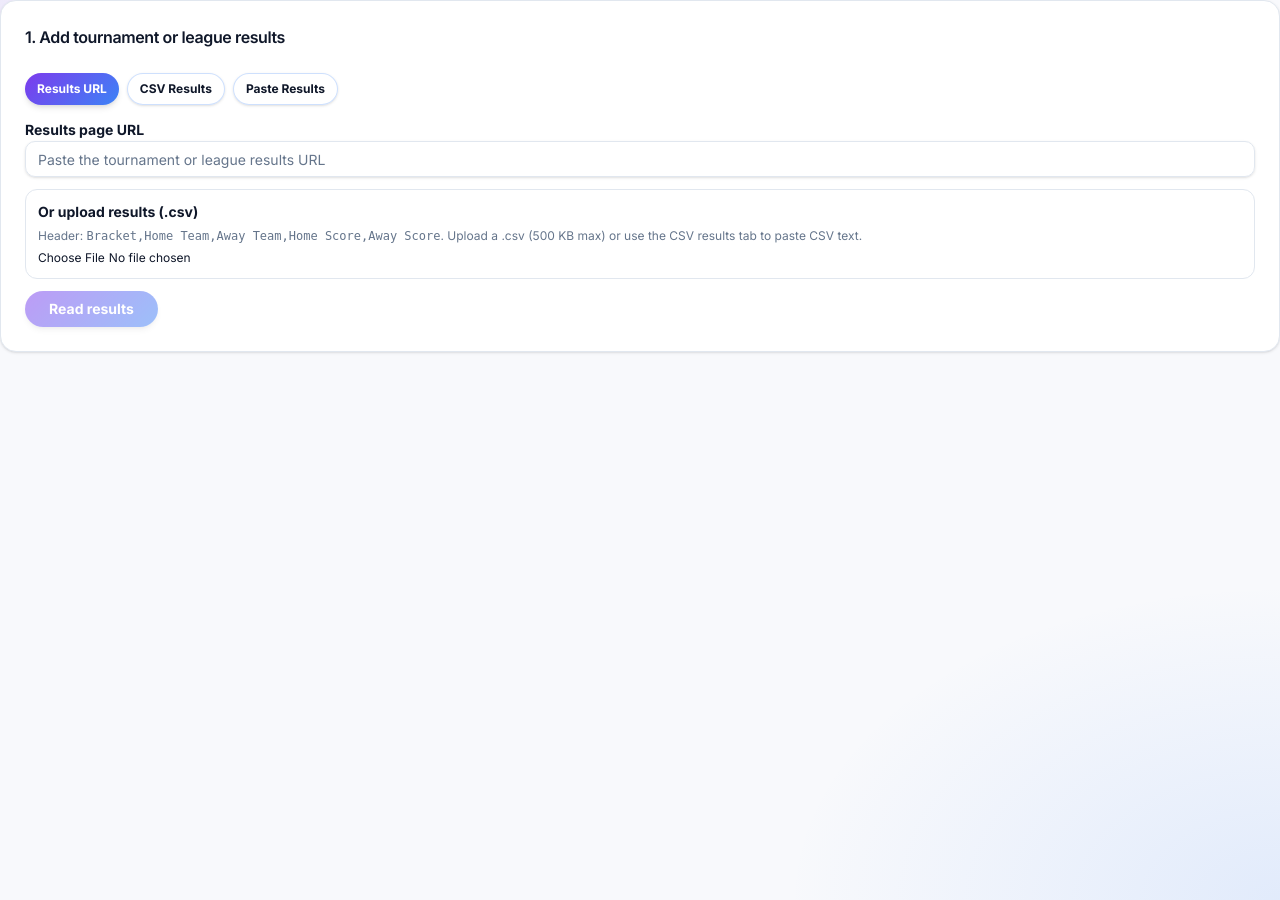
Scenario: visible post-competition results entry › uses the native showPicker API during the CSV button click when available
Click the tab with test id "tab-import-csv".
click(176, 89)  # box [127,73,225,105]
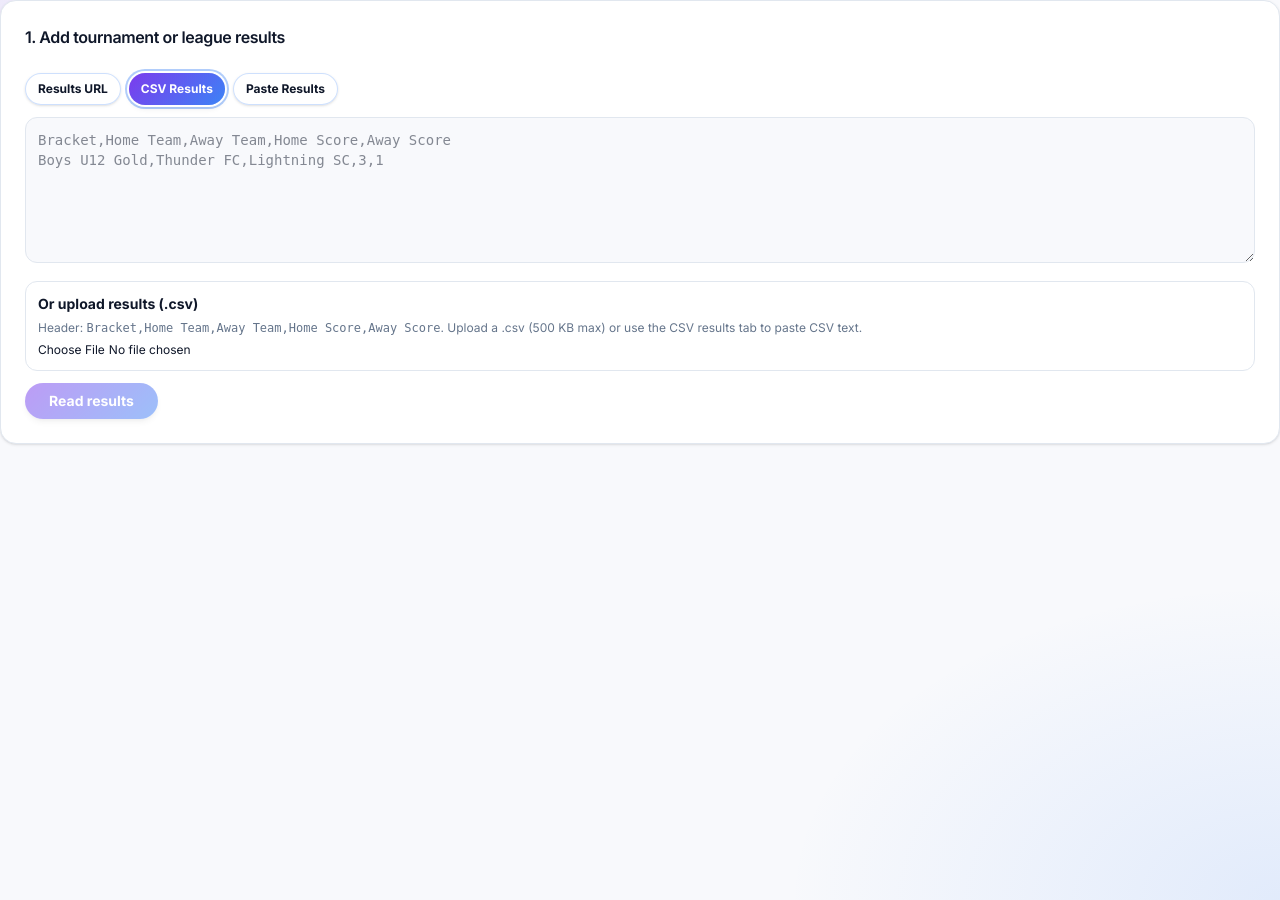
expect the tab with test id "tab-import-csv" is selected: met, box [129,73,225,105]
